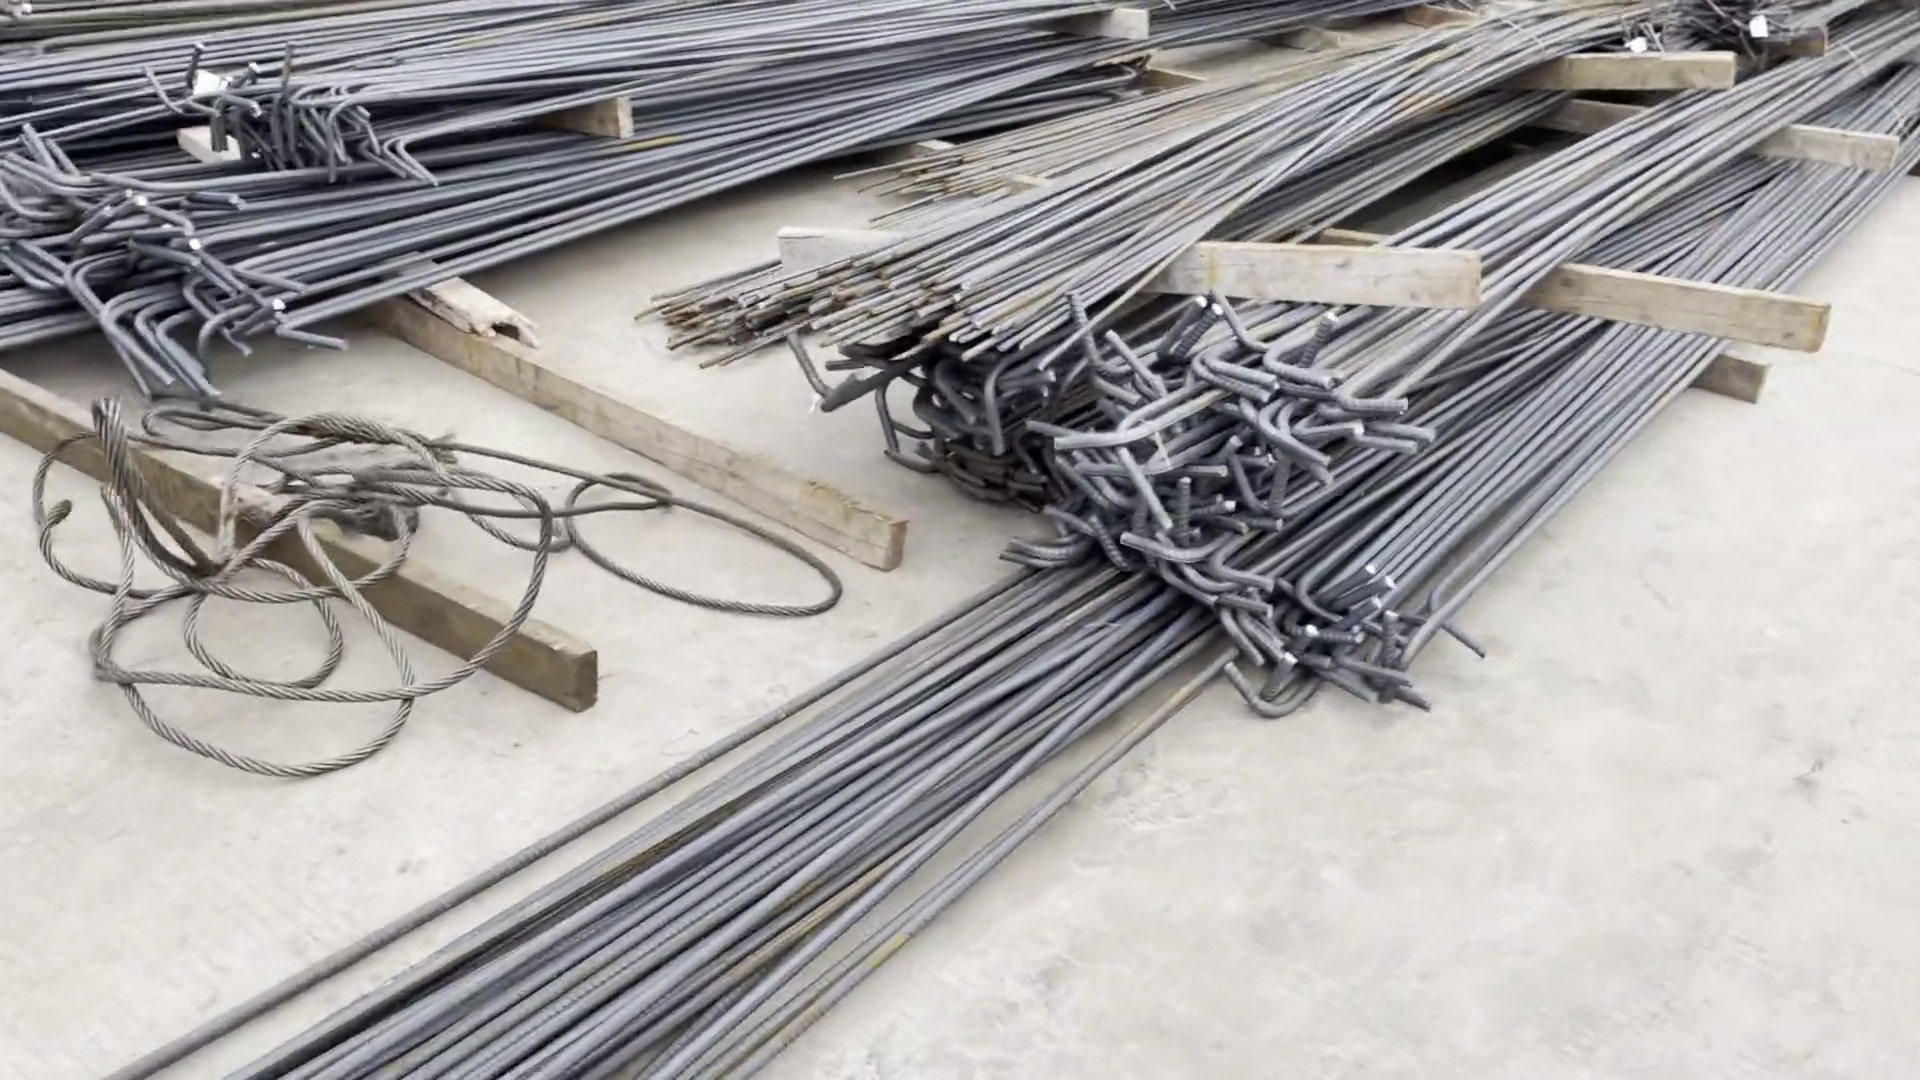rebar: (702, 1, 1879, 746), (107, 505, 1236, 1080), (4, 1, 1047, 429)
